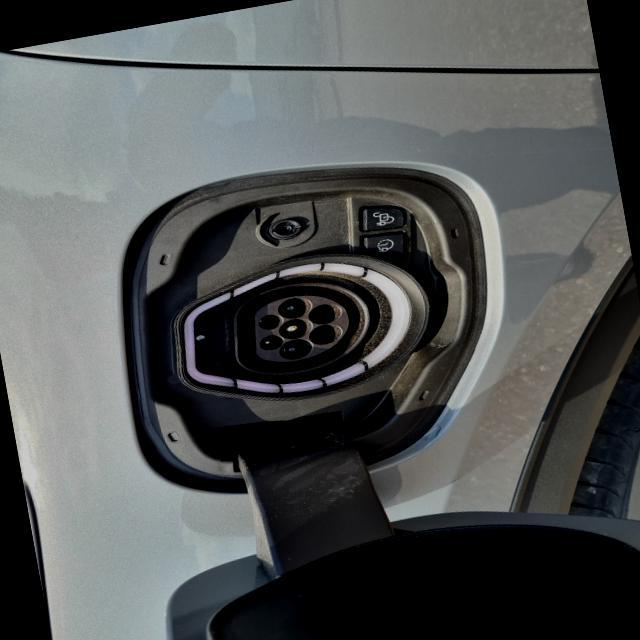Type 2: (212, 248, 380, 413)
